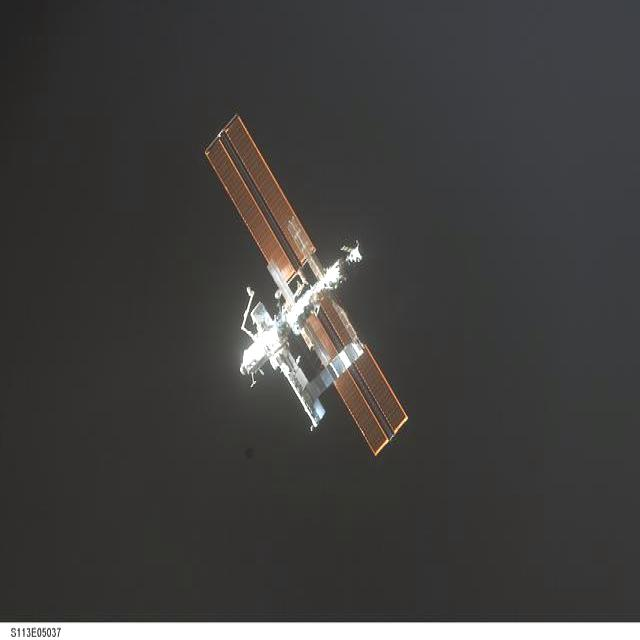satellite: (205, 116, 406, 453)
